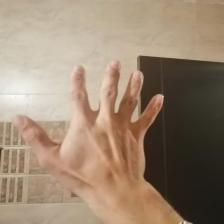five: (15, 57, 170, 194)
